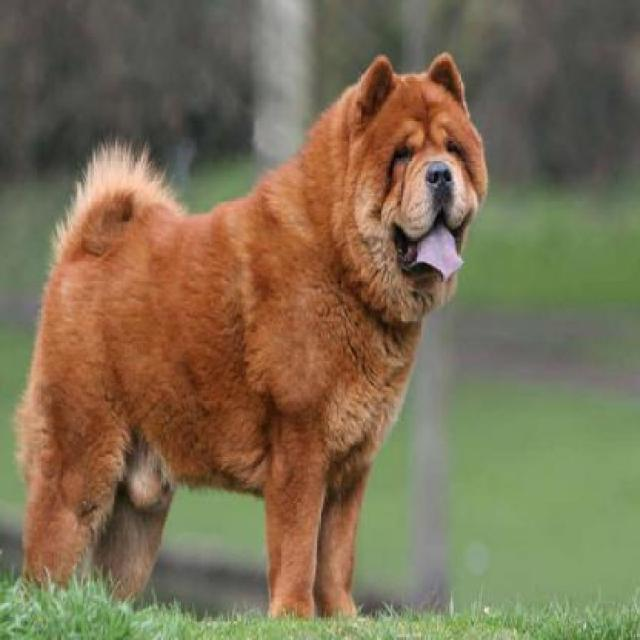animals: (47, 23, 508, 626)
